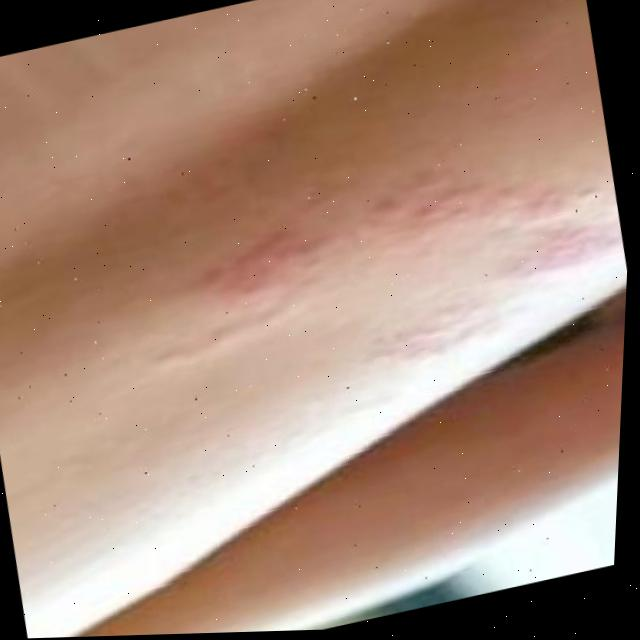Shingles: (127, 146, 633, 418)
